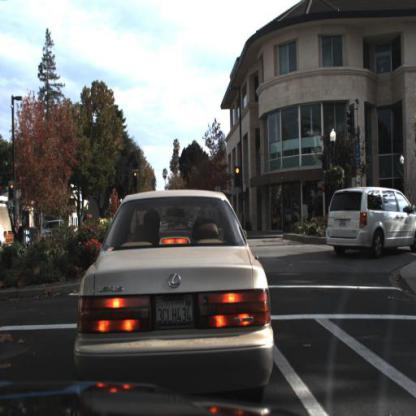car: (82, 187, 266, 385), (325, 183, 416, 260), (39, 215, 66, 249)
pedestrian: (13, 219, 20, 248)
trafficLight-Red: (234, 165, 242, 190), (8, 180, 16, 201), (131, 171, 139, 189)
